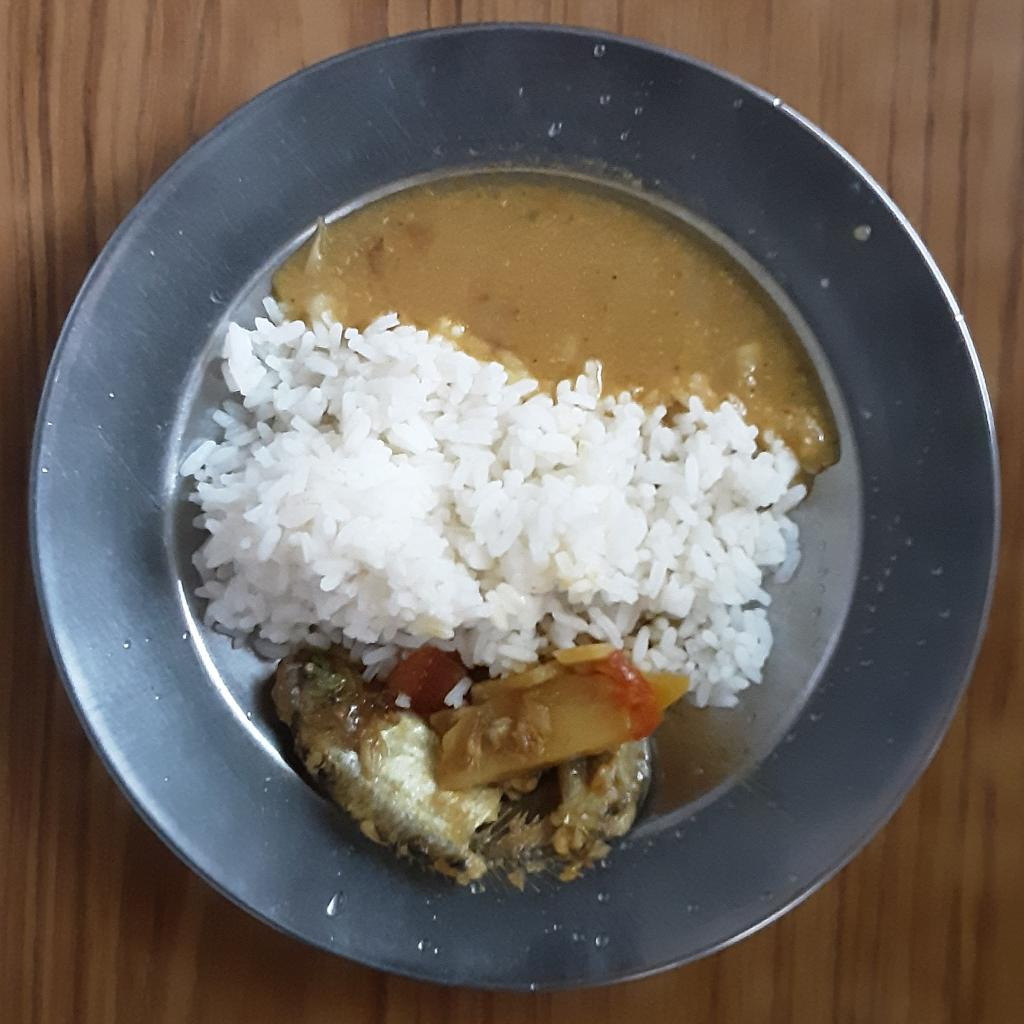daal: (274, 173, 847, 486)
fish: (272, 641, 661, 893)
potato: (431, 646, 688, 799)
rice: (182, 293, 809, 706)
